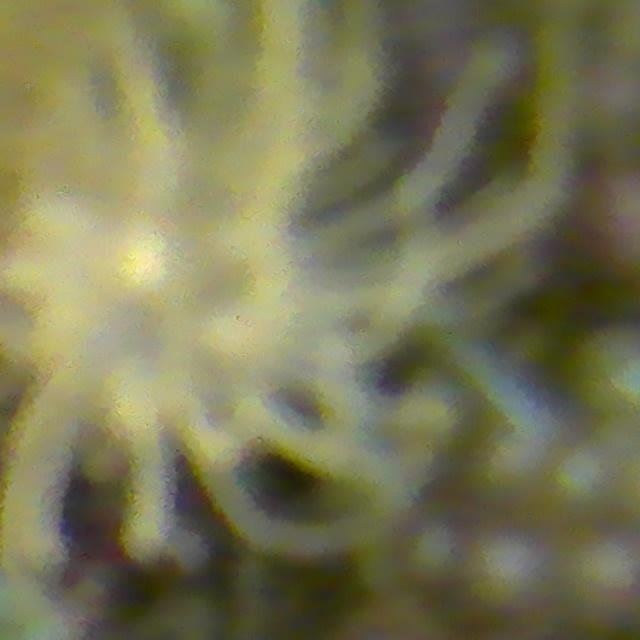SeaGrape: (465, 528, 555, 617), (561, 529, 640, 629), (551, 446, 614, 513)
